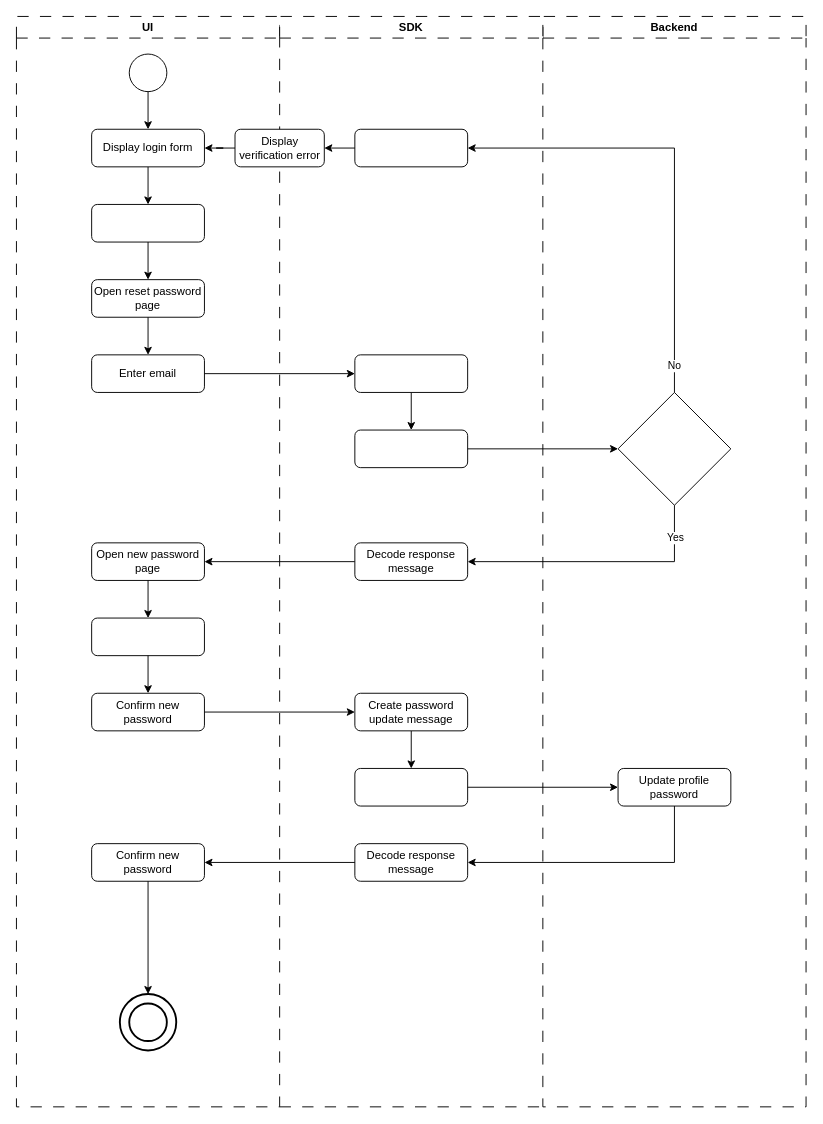
Some shapes in this 823 by 1124 pixel diagram are drawn without their labels. The centre of each missing label's shape, as x and y in pixels:
"Create verification messsage" goes at [411,373].
"Decode error message" goes at [411,147].
"Email correct?" goes at [674,448].
"Enter new password" goes at [147,636].
"Press forgotten password" goes at [147,223].
"Send password update message" goes at [411,787].
"Send verification message" goes at [411,448].
